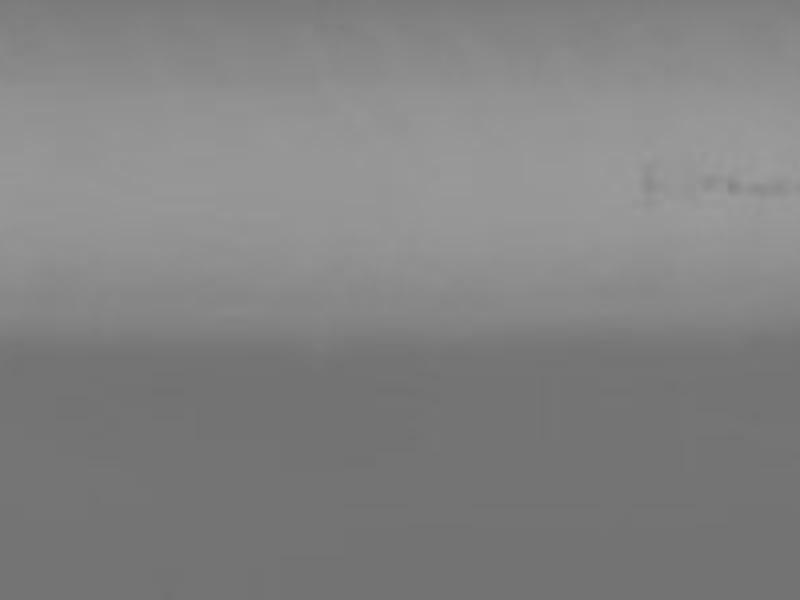defect: (744, 176, 789, 199), (634, 163, 658, 198), (695, 169, 716, 194), (726, 175, 741, 200)
